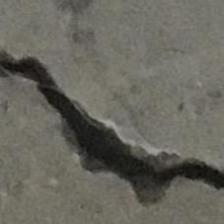Crack: (0, 15, 224, 224)
